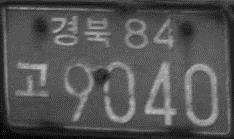0: (183, 61, 219, 127), (103, 59, 136, 123)
4: (143, 60, 177, 126), (151, 16, 179, 49)
8: (123, 16, 150, 50)
9: (62, 60, 96, 123)
경북_O: (49, 14, 112, 49)
고: (12, 60, 51, 98)
